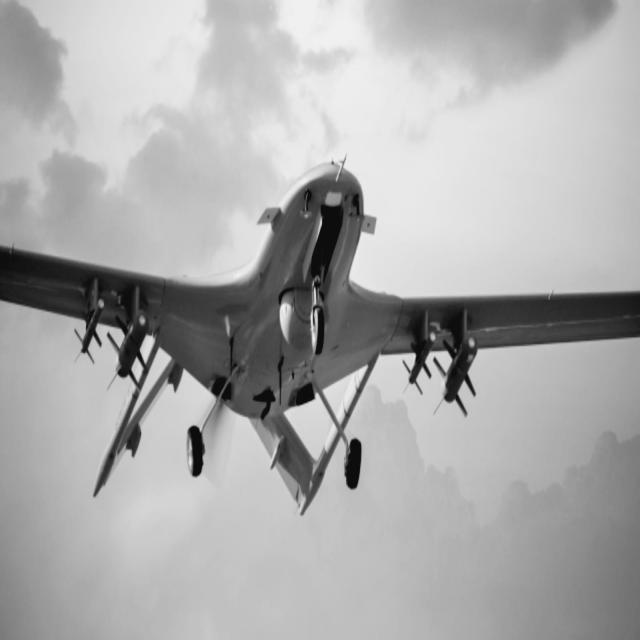iha: (0, 160, 640, 514)
